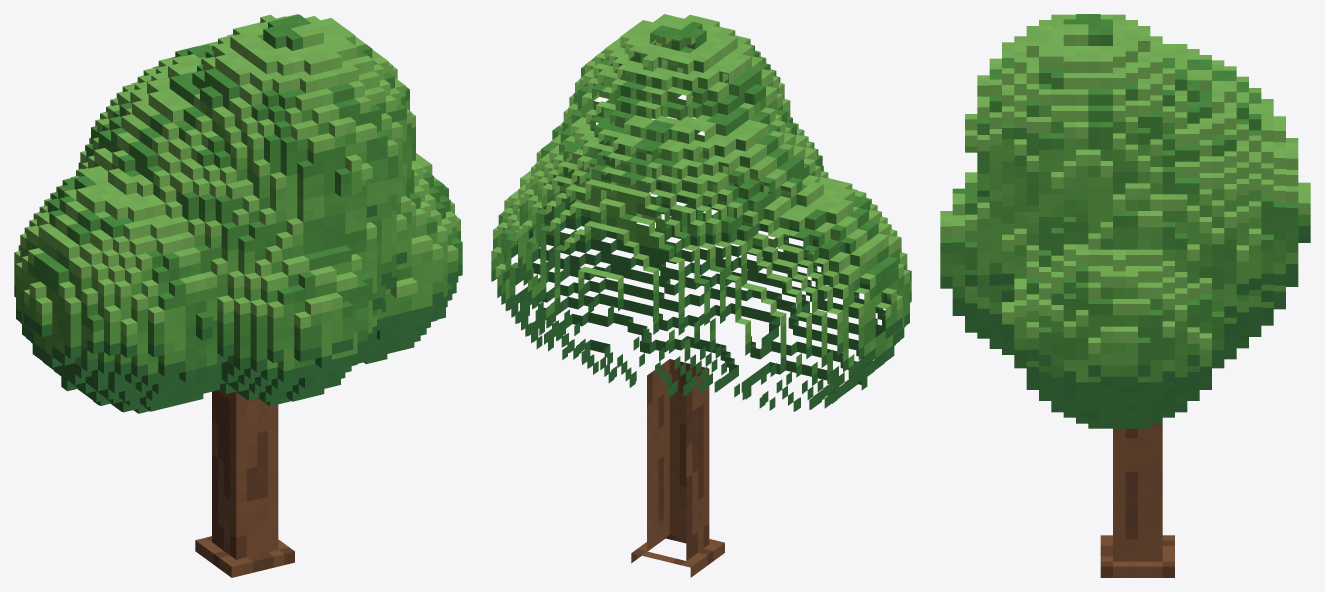
The model's file is tree_voxel_round_b.glb.
3 renders of one model, left to right at view 1: azimuth 30°, elevation 25°; view 2: azimuth 150°, elevation 25°; view 3: azimuth 270°, elevation 25°, orthographic. The views are drawn at different scales.
Visible parts, largest first — view 1: Tree.001; view 2: Tree.001; view 3: Tree.001.
Part boxes in pixels (x1=…): Tree.001: x1=14, y1=14, x2=462, y2=577; Tree.001: x1=491, y1=14, x2=911, y2=577; Tree.001: x1=940, y1=14, x2=1310, y2=577.
Size of the model in its own units: 1.56 by 1.96 by 1.2.
